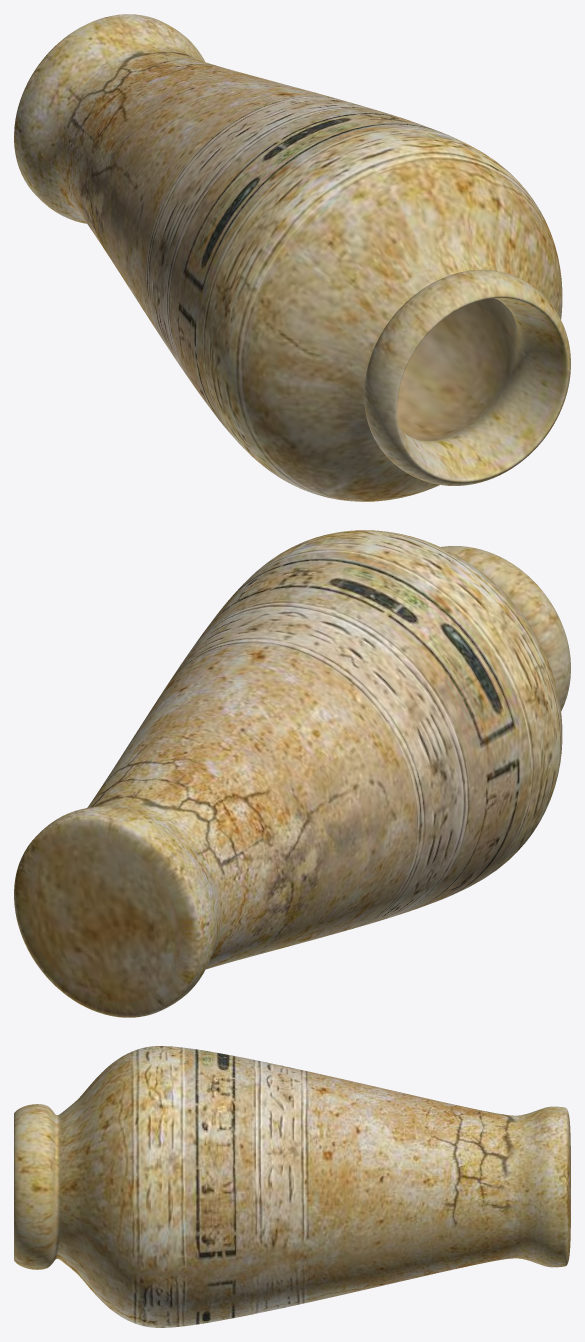
The model's file is Jar.obj.
3 renders of one model, top to bottom at view 1: azimuth 30°, elevation 25°; view 2: azimuth 150°, elevation 25°; view 3: azimuth 270°, elevation 25°, orthographic. The views are drawn at different scales.
Visible parts, largest first — view 1: Line01; view 2: Line01; view 3: Line01.
Part boxes in pixels (x1,y1,x2,y2): Line01: (14, 14, 570, 501); Line01: (14, 530, 570, 1017); Line01: (14, 1046, 570, 1327).
Size of the model in its own units: 39.96 by 39.96 by 78.97.
Materials: 1 (1 with a texture image).
